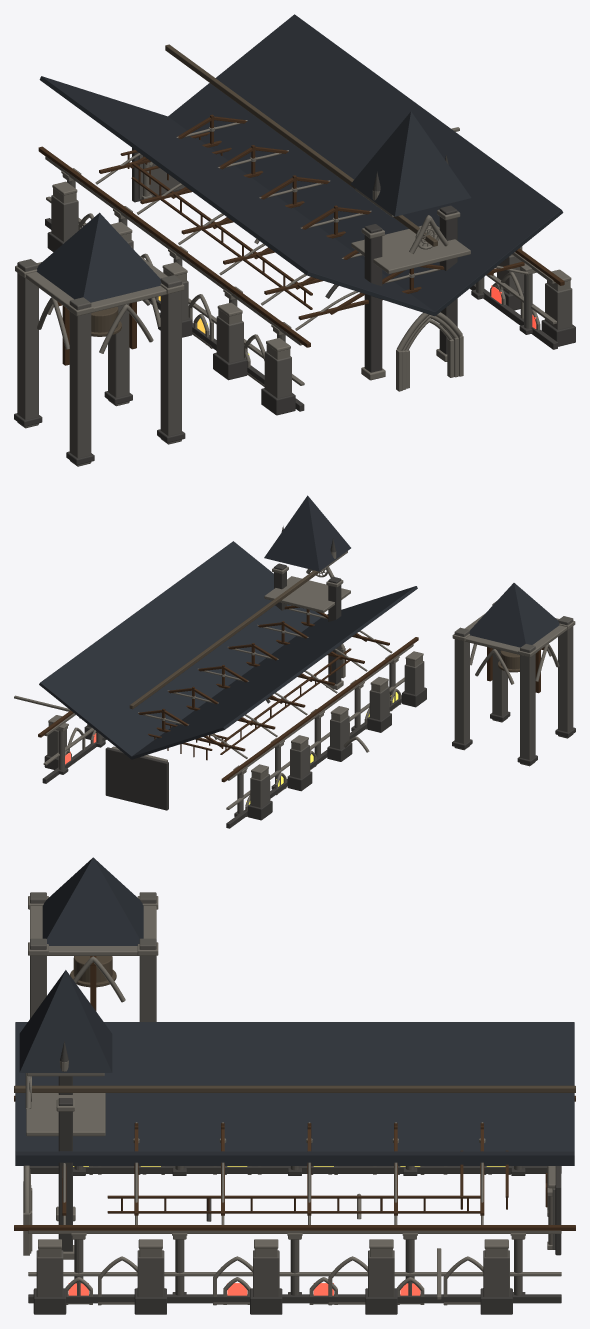
Rendered from church_final_architecture.glb.
3 renders of one model, top to bottom at view 1: azimuth 30°, elevation 25°; view 2: azimuth 150°, elevation 25°; view 3: azimuth 270°, elevation 25°, orthographic. The views are drawn at different scales.
Parts seen in each view (by area): view 1: Architecture_roof, Architecture_stone, Architecture_trim, Architecture_wood, Architecture_stone_dark, Architecture_metal; view 2: Architecture_roof, Architecture_stone, Architecture_trim, Architecture_stone_dark, Architecture_wood, Architecture_metal; view 3: Architecture_roof, Architecture_trim, Architecture_stone_dark, Architecture_stone, Architecture_wood, Architecture_metal, Architecture_glass_red.
Boxes of the visible parts, x1=… form: Architecture_roof: x1=36, y1=14, x2=563, y2=316; Architecture_stone: x1=17, y1=154, x2=572, y2=466; Architecture_trim: x1=15, y1=120, x2=571, y2=391; Architecture_wood: x1=38, y1=114, x2=564, y2=365; Architecture_stone_dark: x1=14, y1=148, x2=575, y2=464; Architecture_metal: x1=91, y1=44, x2=437, y2=336; Architecture_roof: x1=39, y1=495, x2=559, y2=759; Architecture_stone: x1=47, y1=601, x2=573, y2=813; Architecture_trim: x1=14, y1=551, x2=575, y2=816; Architecture_stone_dark: x1=42, y1=526, x2=575, y2=828; Architecture_wood: x1=38, y1=605, x2=544, y2=782; Architecture_metal: x1=129, y1=570, x2=519, y2=709; Architecture_roof: x1=15, y1=857, x2=574, y2=1165; Architecture_trim: x1=23, y1=896, x2=561, y2=1305; Architecture_stone_dark: x1=28, y1=1041, x2=561, y2=1314; Architecture_stone: x1=30, y1=892, x2=555, y2=1296; Architecture_wood: x1=14, y1=956, x2=575, y2=1230; Architecture_metal: x1=14, y1=956, x2=575, y2=1092; Architecture_glass_red: x1=68, y1=1283, x2=420, y2=1295.
Bounding box in the file's own units: 48.57 × 20.65 × 39.
